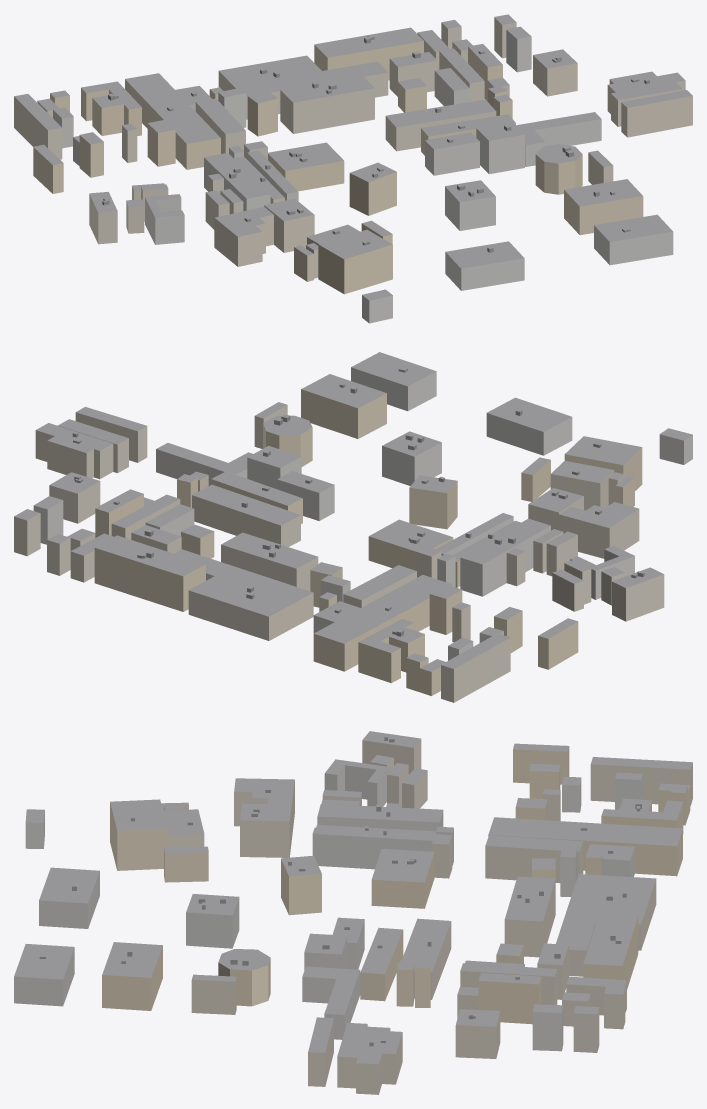
File: building_4_-5.glb
3 renders of one model, top to bottom at view 1: azimuth 30°, elevation 25°; view 2: azimuth 150°, elevation 25°; view 3: azimuth 270°, elevation 25°, orthographic. The views are drawn at different scales.
Parts seen in each view (by area): view 1: roof, concrete_warm, sandstone, concrete_light; view 2: roof, concrete_warm, sandstone, concrete_light; view 3: roof, concrete_warm, sandstone, concrete_light.
Part boxes in pixels (x1,y1,x2,y2): roof: (14, 14, 692, 300); concrete_warm: (14, 17, 692, 278); sandstone: (33, 41, 643, 294); concrete_light: (53, 30, 673, 323); roof: (14, 352, 692, 671); concrete_warm: (14, 405, 664, 702); sandstone: (94, 389, 642, 695); concrete_light: (33, 367, 692, 660); roof: (14, 731, 692, 1064); concrete_warm: (164, 739, 692, 1094); sandstone: (102, 746, 690, 1024); concrete_light: (14, 765, 642, 1051).
Bounding box in the file's own units: 272 × 16.72 × 238.
